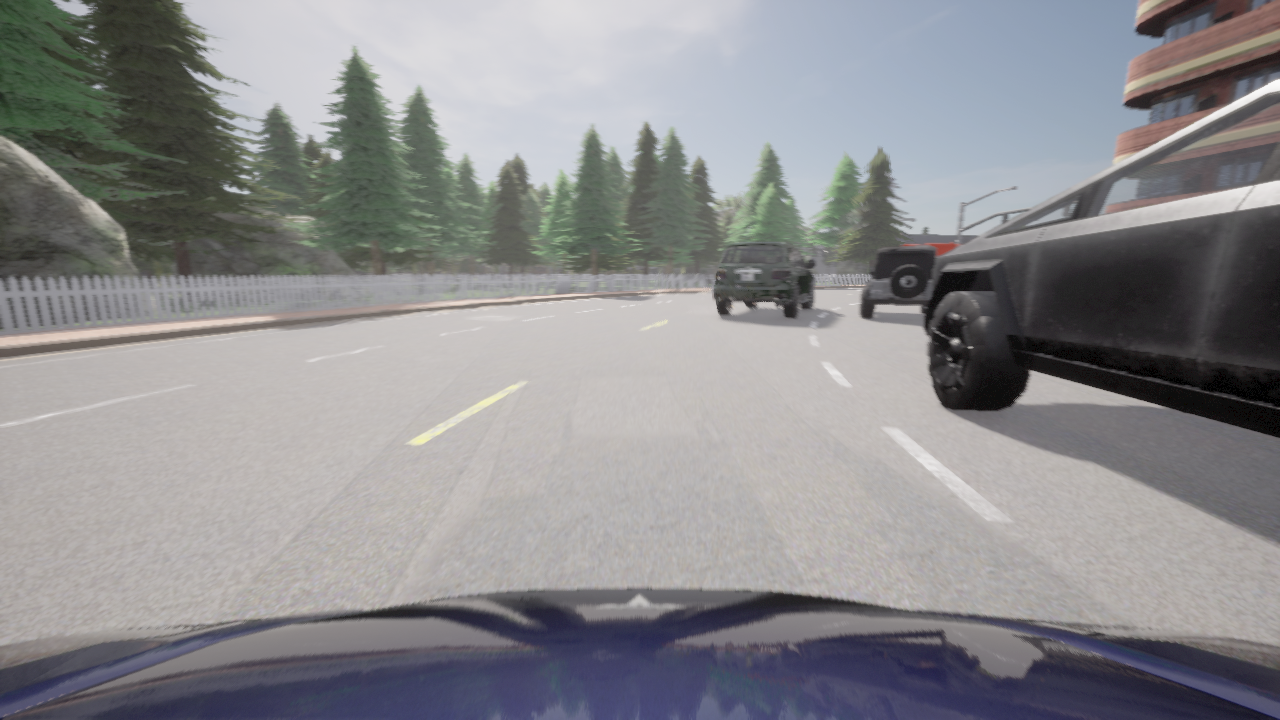cyclist: (0, 588, 1279, 719), (923, 79, 1279, 438), (713, 241, 815, 318), (861, 246, 936, 317), (900, 242, 962, 257)
